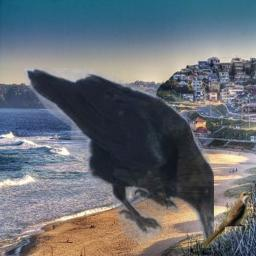Crow: (24, 68, 214, 243)
Cuckoo: (202, 191, 252, 248)
